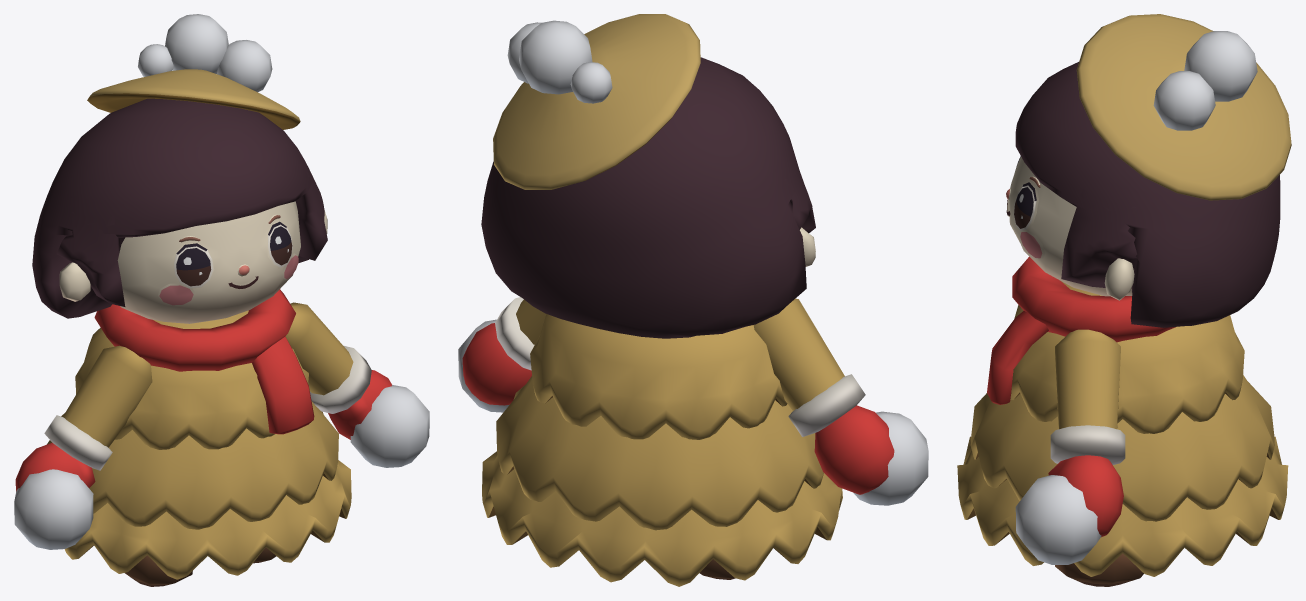
File: yukiwarashi.glb
3 renders of one model, left to right at view 1: azimuth 30°, elevation 25°; view 2: azimuth 150°, elevation 25°; view 3: azimuth 270°, elevation 25°, orthographic. The views are drawn at different scales.
Visible parts, largest first — view 1: body, armL, armR, ballL, ballR, face; view 2: body, armL, armR, ballL, ballR; view 3: body, armR, ballR, face.
Part boxes in pixels (x1,y1,x2,y2): body: (32, 14, 351, 586); armL: (15, 345, 152, 491); armR: (285, 302, 391, 439); ballL: (14, 469, 93, 549); ballR: (350, 385, 429, 467); face: (158, 214, 298, 305); body: (481, 14, 842, 586); armL: (753, 298, 894, 494); armR: (462, 297, 546, 405); ballL: (853, 411, 928, 505); ballR: (458, 319, 509, 412); body: (957, 14, 1291, 586); armR: (1048, 329, 1125, 537); ballR: (1015, 475, 1101, 564); face: (1006, 156, 1045, 258).
Size of the model in its own units: 0.8773 by 1.04 by 0.5758.
